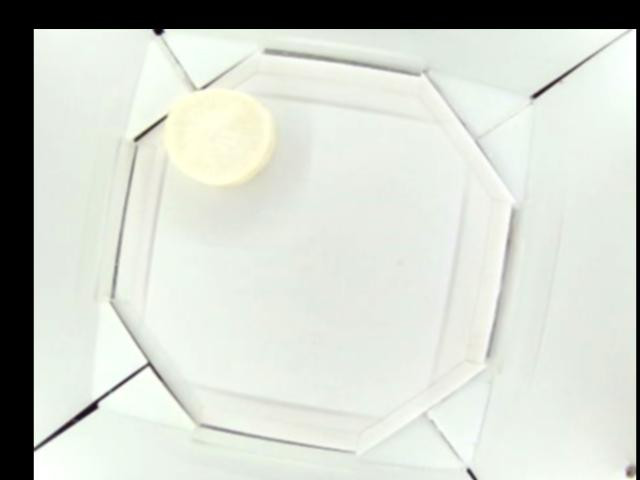Mooli: (162, 87, 275, 186)
